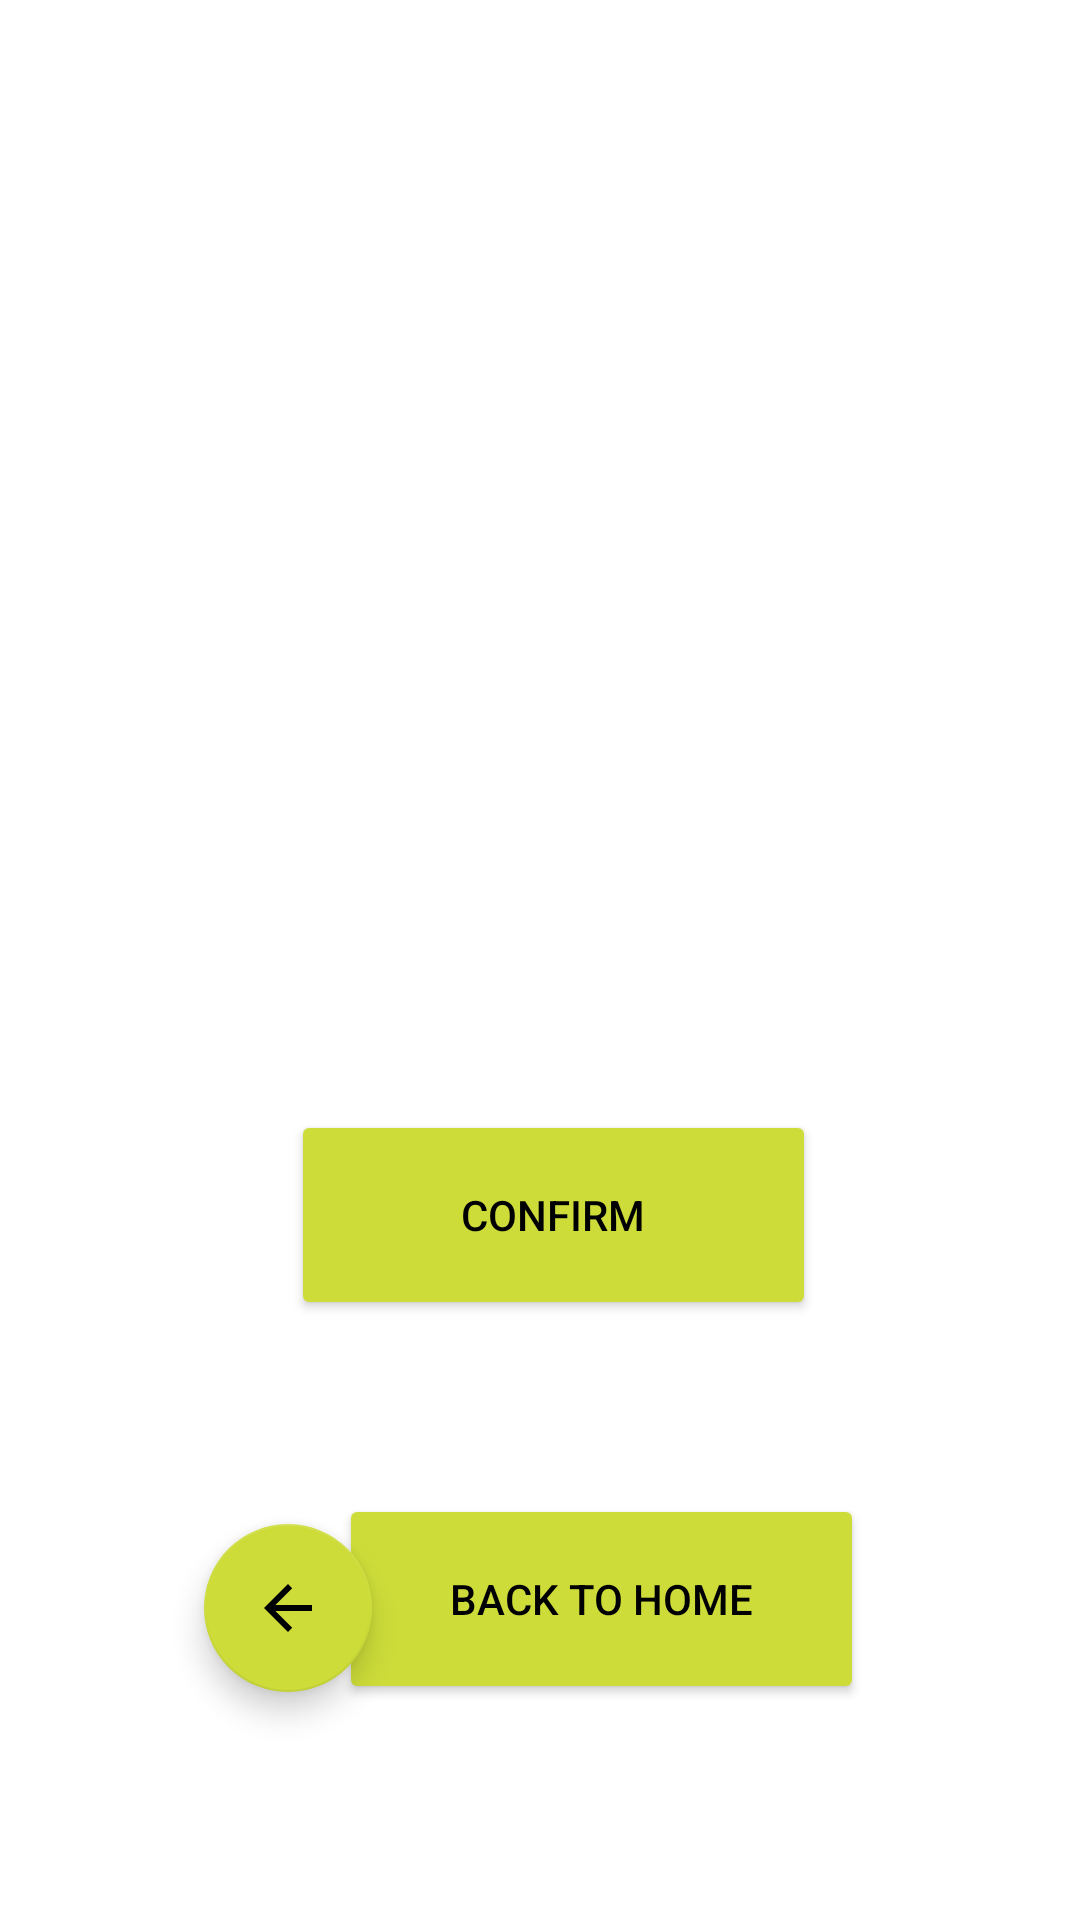

Named icons in this screenshot (1080 x 1920) and their centers, (x=x, y=y):
Back to Previous Screen: (x=288, y=1608)
